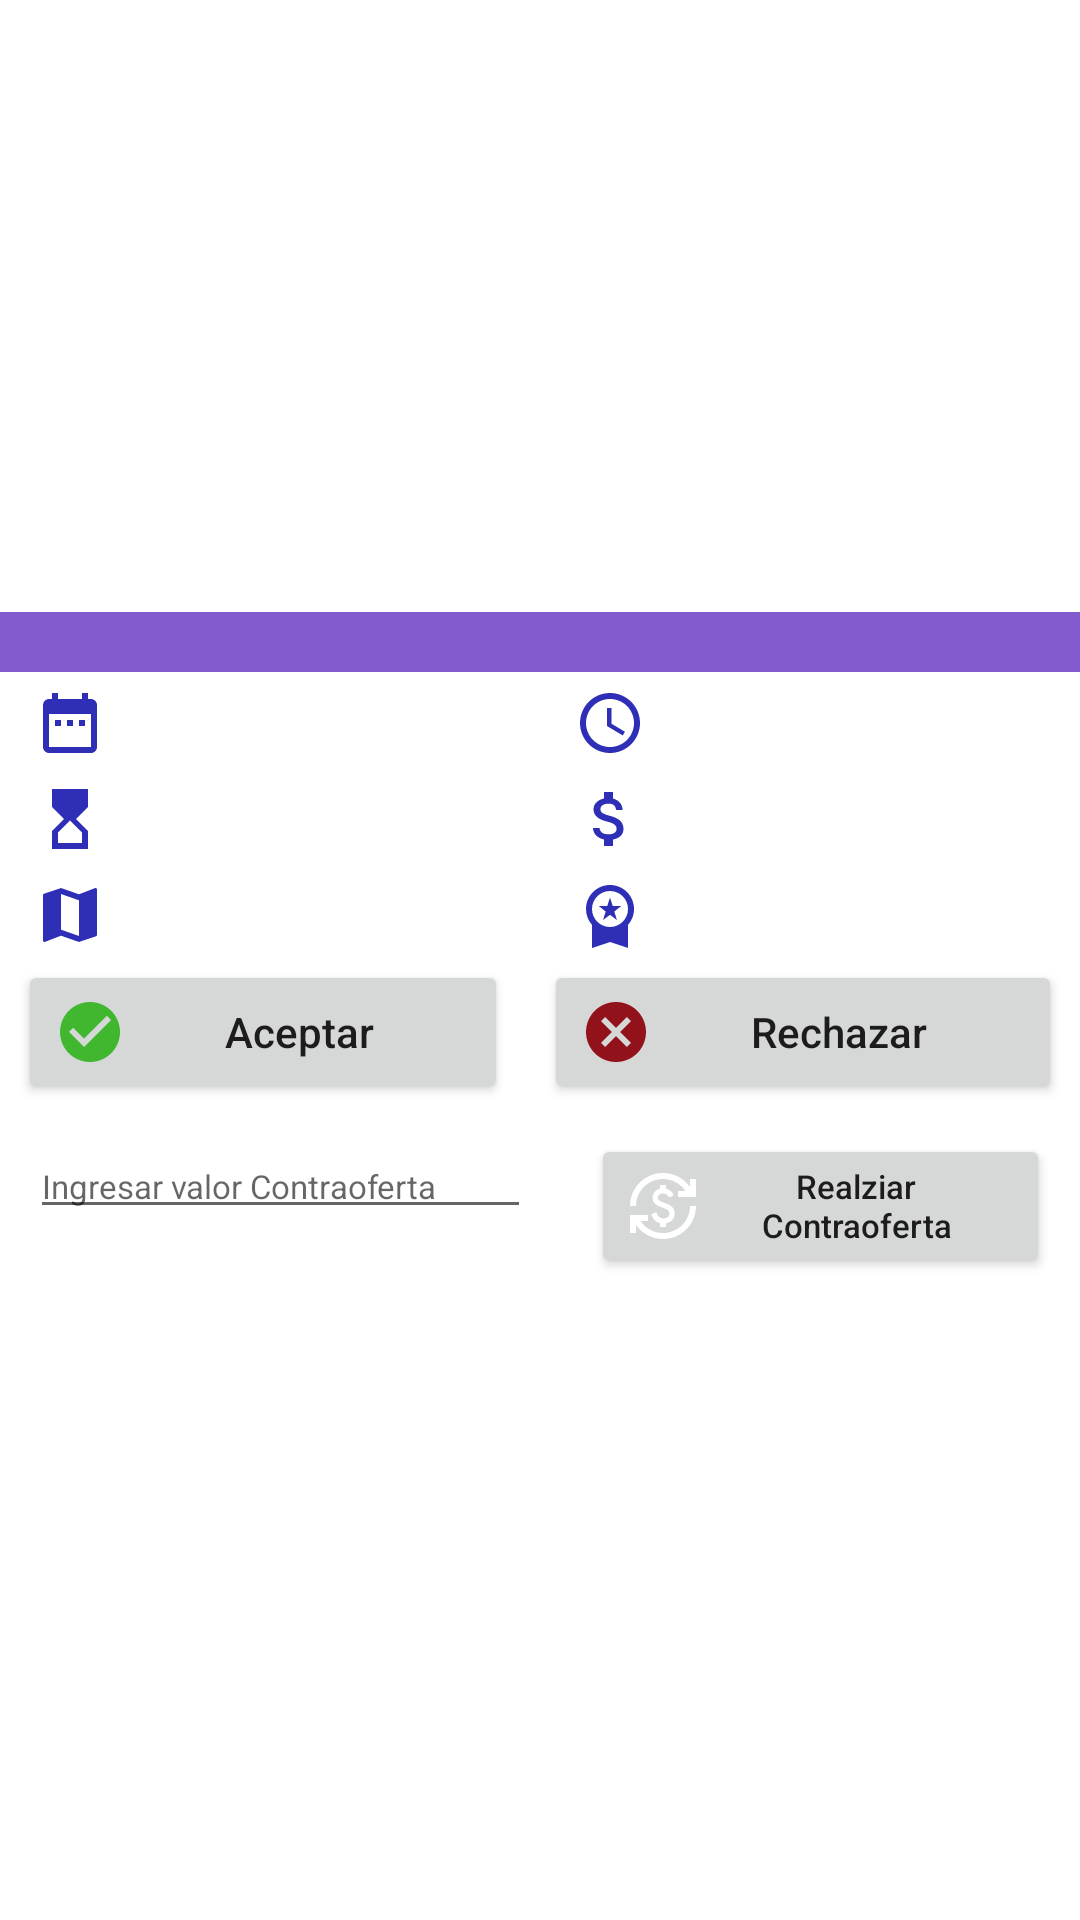

Point at icon controls on the screen. Image size 1080 x 1920, points as (x=x, y=y).
access time: (x=610, y=723)
attach money: (x=608, y=819)
date range: (x=70, y=723)
hourglass top: (x=70, y=819)
map: (x=70, y=915)
workspace premium: (x=610, y=916)
